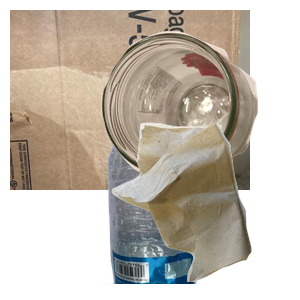cardboard: (10, 10, 250, 190)
glass: (98, 29, 300, 198)
plastic: (96, 120, 285, 300)
trash: (109, 120, 300, 300)
